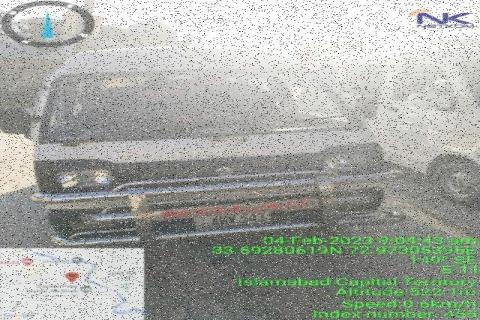LicensePlate: (200, 210, 277, 230)
